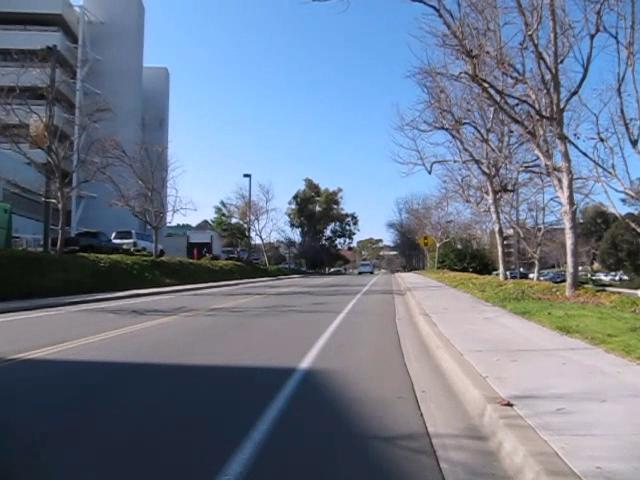signalAhead: (416, 231, 436, 251)
